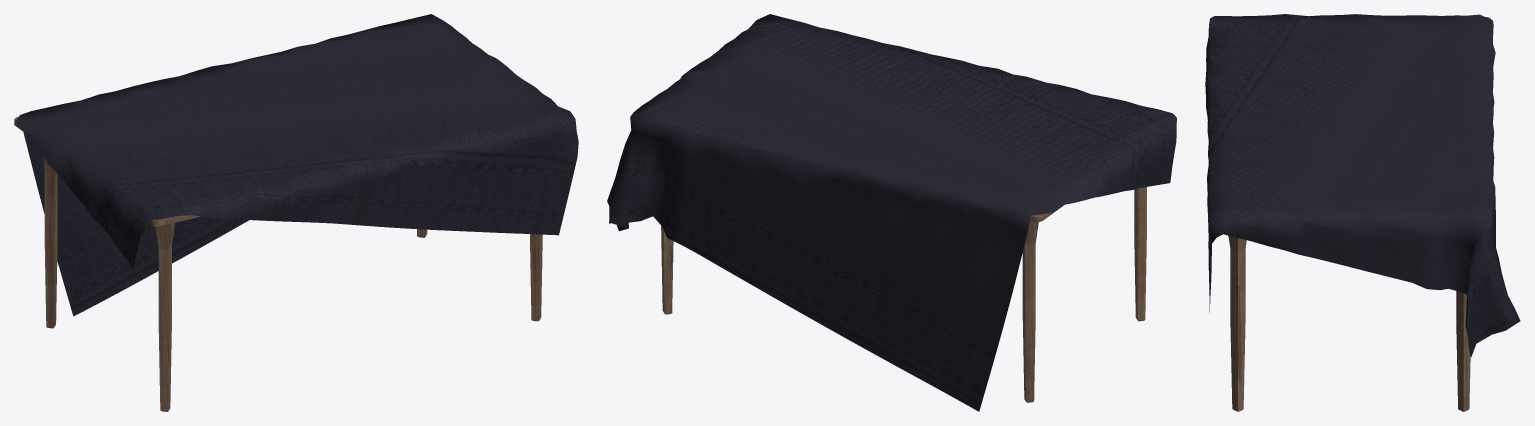
File: de_table.glb
3 views of the same model, side by side, from view 1: azimuth 30°, elevation 25°; view 2: azimuth 150°, elevation 25°; view 3: azimuth 270°, elevation 25° (orthographic). The views are drawn at different scales.
Parts seen in each view (by area): view 1: Table (×2); view 2: Table (×2); view 3: Table (×2).
Part boxes in pixels (bbox=[...]): Table (×2): bbox=[14, 14, 578, 411]; Table (×2): bbox=[607, 14, 1176, 411]; Table (×2): bbox=[1205, 14, 1520, 411].
Bounding box in the file's own units: 2 × 0.8942 × 1.19.
2 materials, 2 textured.
